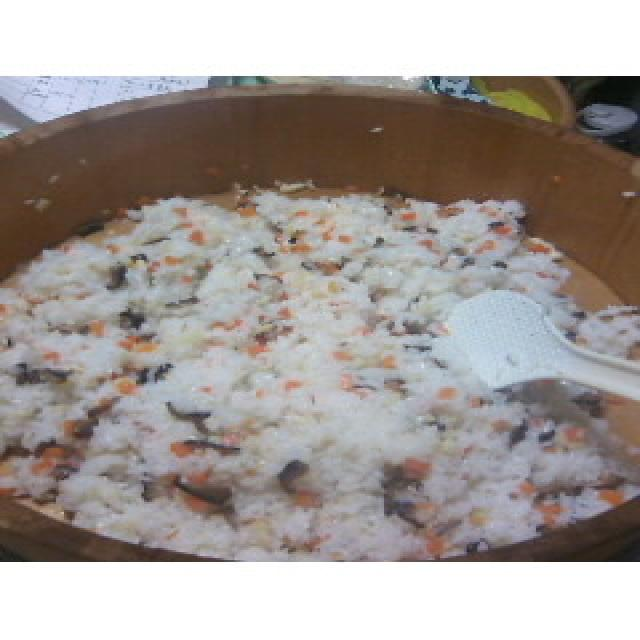寿司卷物: (0, 80, 640, 548)
